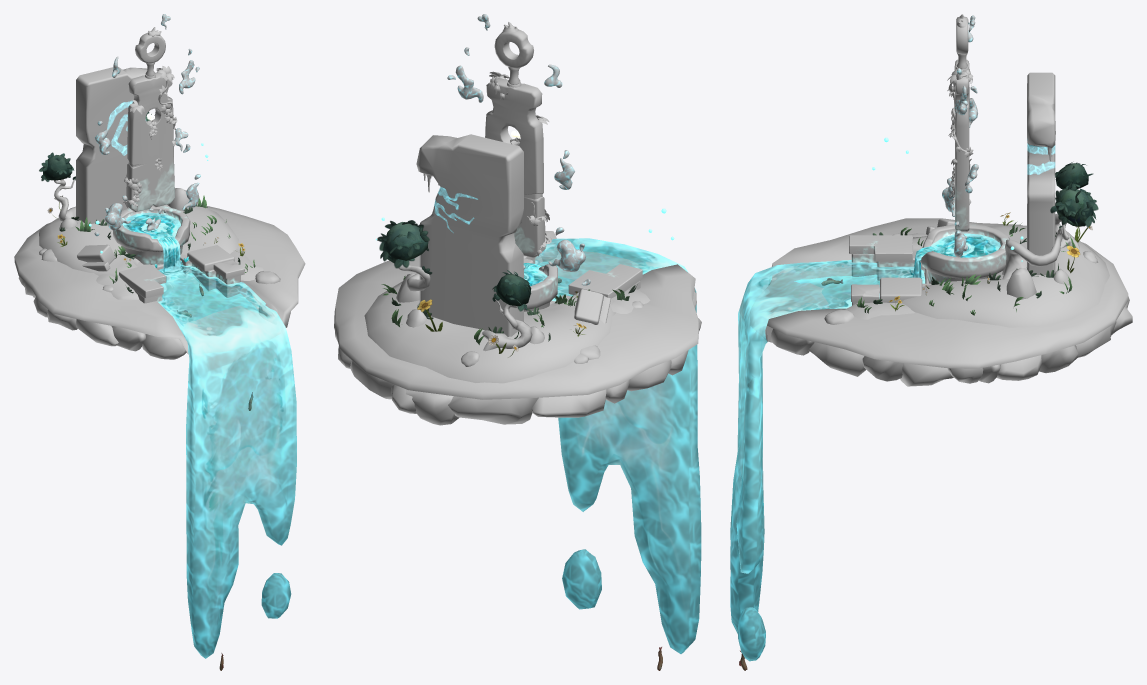
3 renders of one model, left to right at view 1: azimuth 30°, elevation 25°; view 2: azimuth 150°, elevation 25°; view 3: azimuth 270°, elevation 25°, orthographic. The views are drawn at different scales.
Visible parts, largest first — view 1: BigFall_Low, Ground_Low, Stone_Low, Grass_Low, Sword_Low, BigRock_Low1, Fountain_Low, TopRock_Low, Magic_Low2, UnderRock_Low, Grass02_Low1, Leaf (+8 smaller); view 2: BigFall_Low, Ground_Low, Stone_Low, Grass_Low, BigRock_Low1, Sword_Low, Magic_Low2, TopRock_Low, Tree_Low, Grass02_Low1, Bush_Low, BushLeaf1_Low (+6 smaller); view 3: Ground_Low, BigFall_Low, Grass_Low, BigRock_Low1, Stone_Low, Fountain_Low, TopRock_Low, Sword_Low, Grass02_Low1, Tree_Low, Magic_Low2, UnderRock_Low (+6 smaller).
Boxes of the visible parts, x1,y1,x2,y2 form: BigFall_Low: (158,264,296,658); Ground_Low: (14,204,305,354); Stone_Low: (76,67,147,223); Grass_Low: (39,204,263,299); Sword_Low: (126,72,174,212); BigRock_Low1: (18,276,290,359); Fountain_Low: (113,205,190,264); TopRock_Low: (119,245,234,298); Magic_Low2: (94,14,200,236); UnderRock_Low: (134,254,240,303); Grass02_Low1: (47,195,255,293); Leaf: (123,66,177,207); BigFall_Low: (535,238,701,653); Ground_Low: (334,231,699,399); Stone_Low: (416,134,523,336); Grass_Low: (364,281,650,383); BigRock_Low1: (335,237,701,425); Sword_Low: (485,78,545,257); Magic_Low2: (455,14,590,285); TopRock_Low: (523,258,642,298); Tree_Low: (398,264,532,351); Grass02_Low1: (381,276,637,357); Bush_Low: (383,222,428,263); BushLeaf1_Low: (377,220,531,311); Ground_Low: (750,218,1128,368); BigFall_Low: (730,260,925,661); Grass_Low: (845,225,1109,327); BigRock_Low1: (770,258,1132,386); Stone_Low: (1027,72,1055,275); Fountain_Low: (920,224,1009,283); TopRock_Low: (849,235,922,302); Sword_Low: (954,59,969,232); Grass02_Low1: (856,212,1092,315); Tree_Low: (1002,213,1079,279); Magic_Low2: (942,15,977,257); UnderRock_Low: (851,254,931,305).
Bounding box in the file's own units: 2.87 × 6.27 × 3.37.
